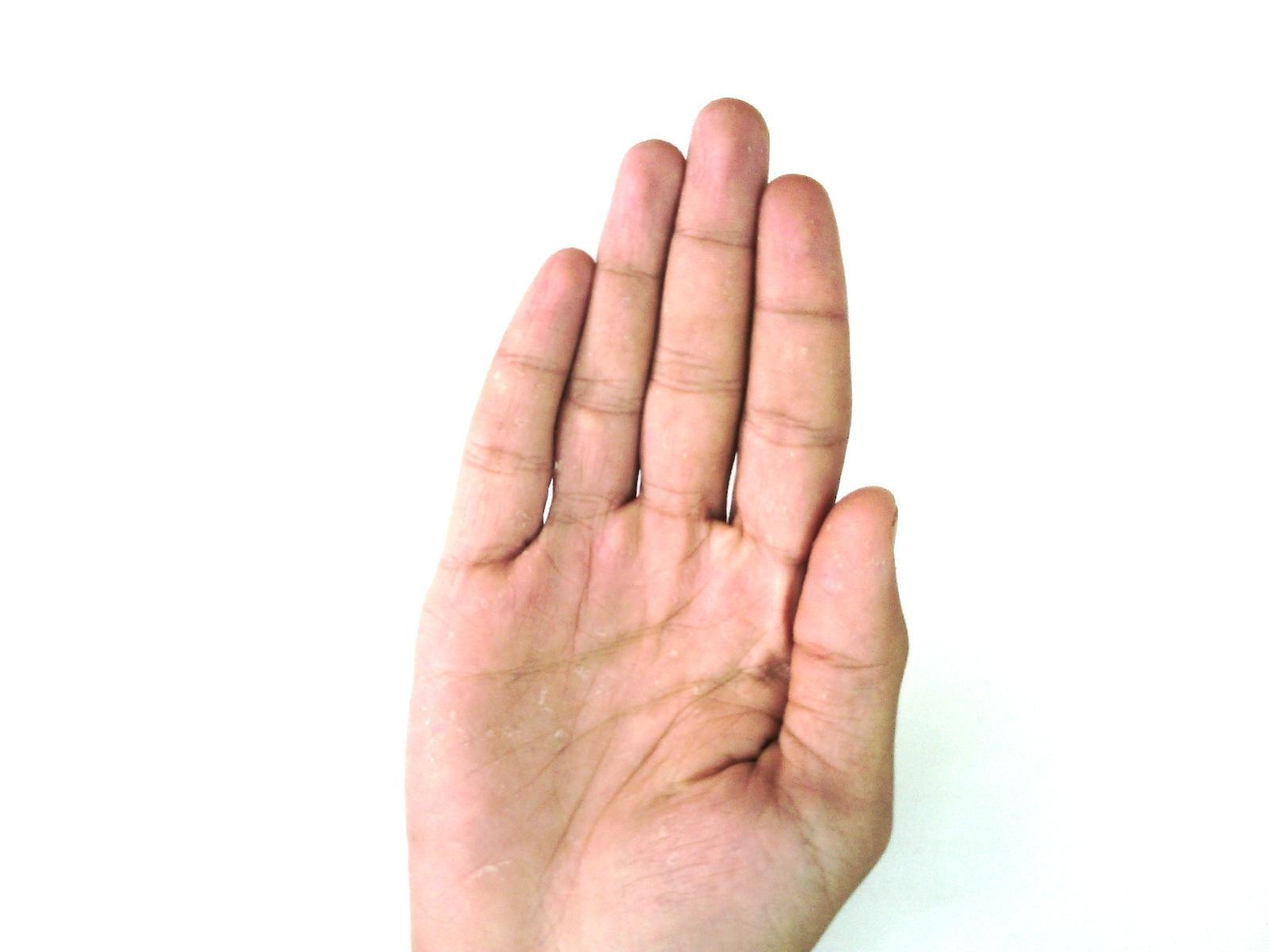open_palm: (401, 97, 912, 951)
